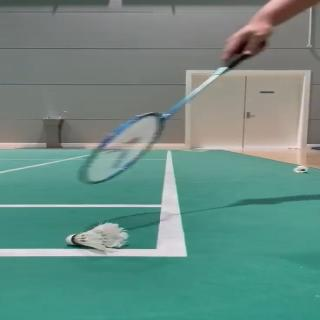Shuttle: (64, 220, 130, 256), (292, 164, 309, 174)
